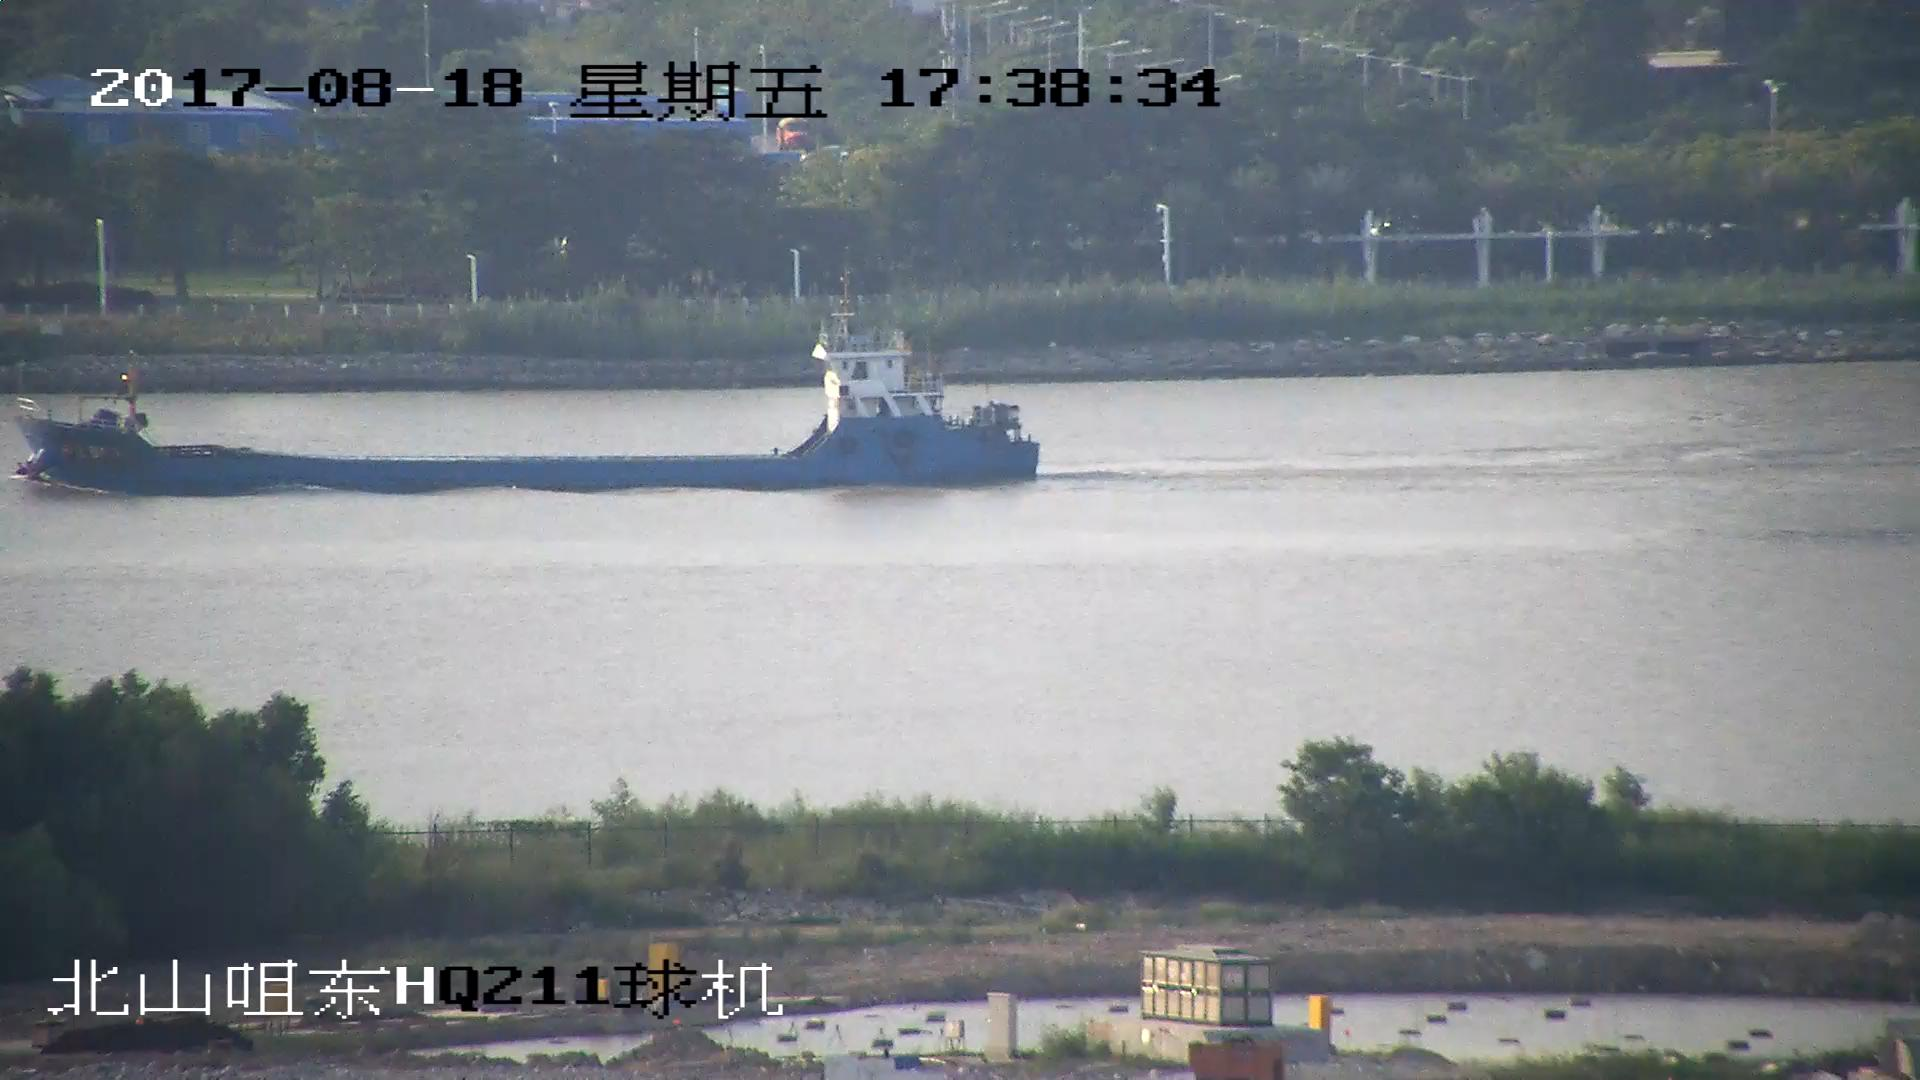general cargo ship: (12, 281, 1040, 494)
